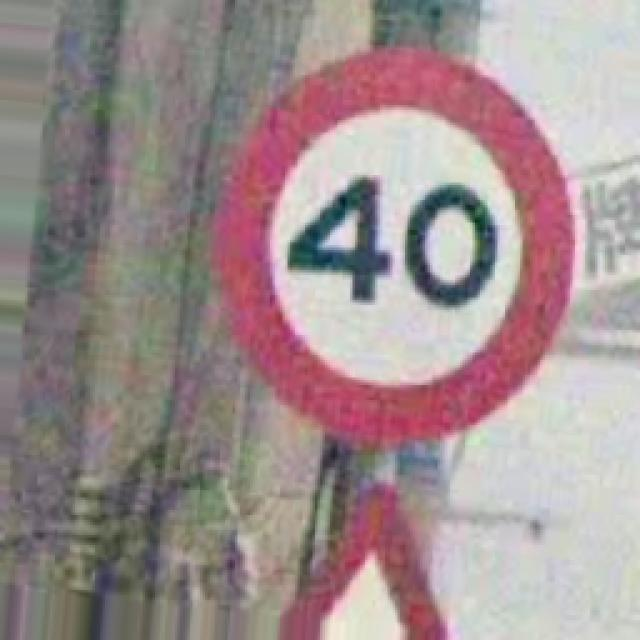Speed Limit -40-: (215, 48, 572, 442)
